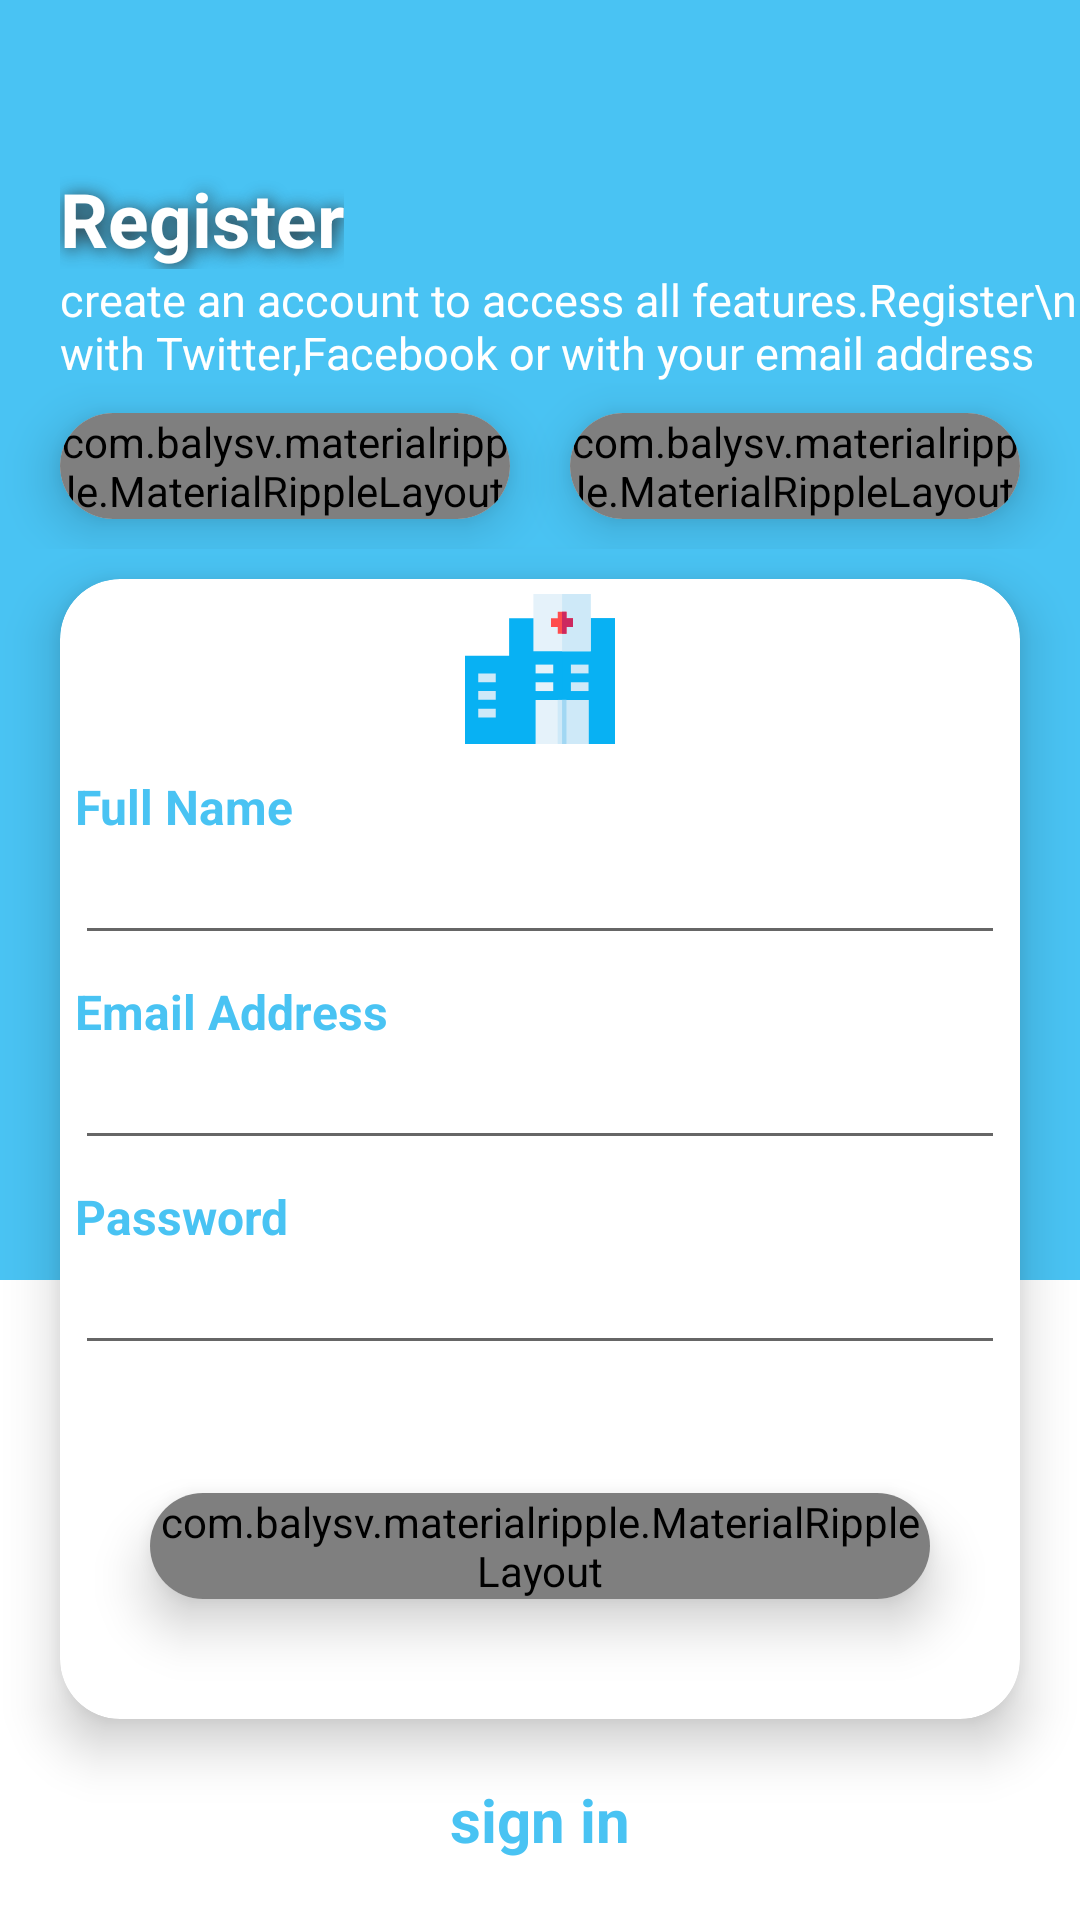

Named icons in this screenshot (1080 × 1920) and their bounding boxes, (x1, y1, x2, y2):
hospital: (465, 594, 615, 744)
